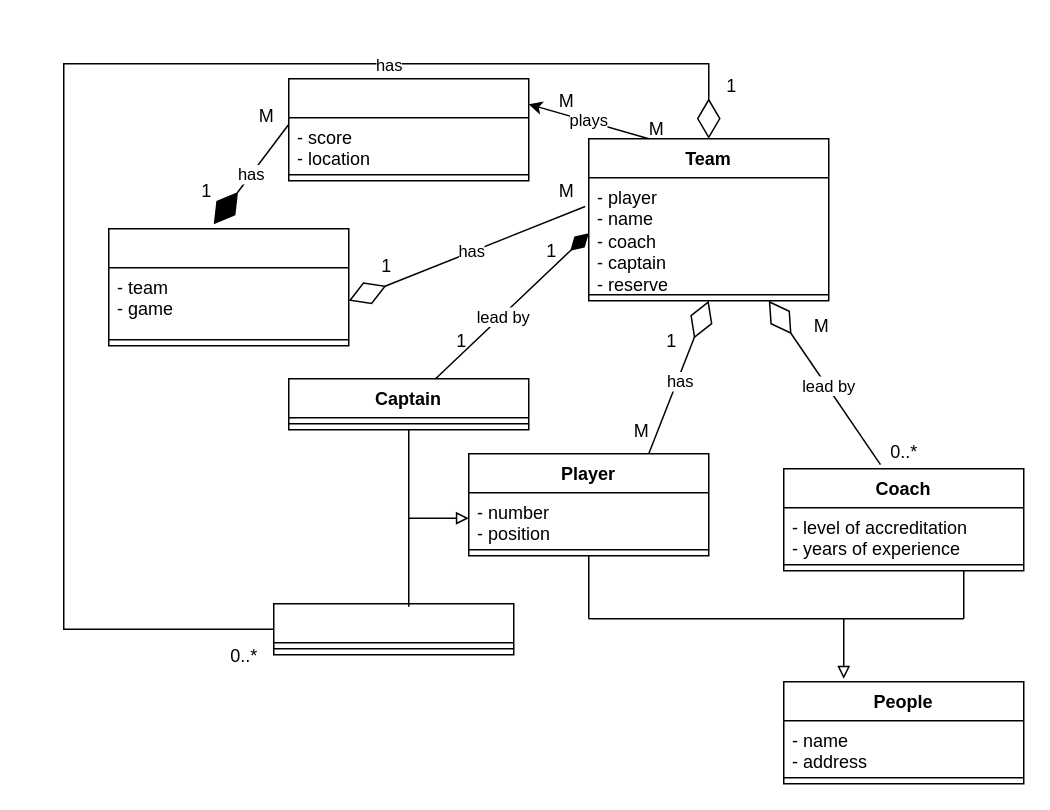
This 1050x810 diagram has some shape labels left out. The box of each missing label's shape, as (x1, y1, x2, y2) in pixels:
Football League: (107, 227, 349, 346)
Game: (287, 77, 529, 181)
Reserve: (272, 602, 514, 655)
